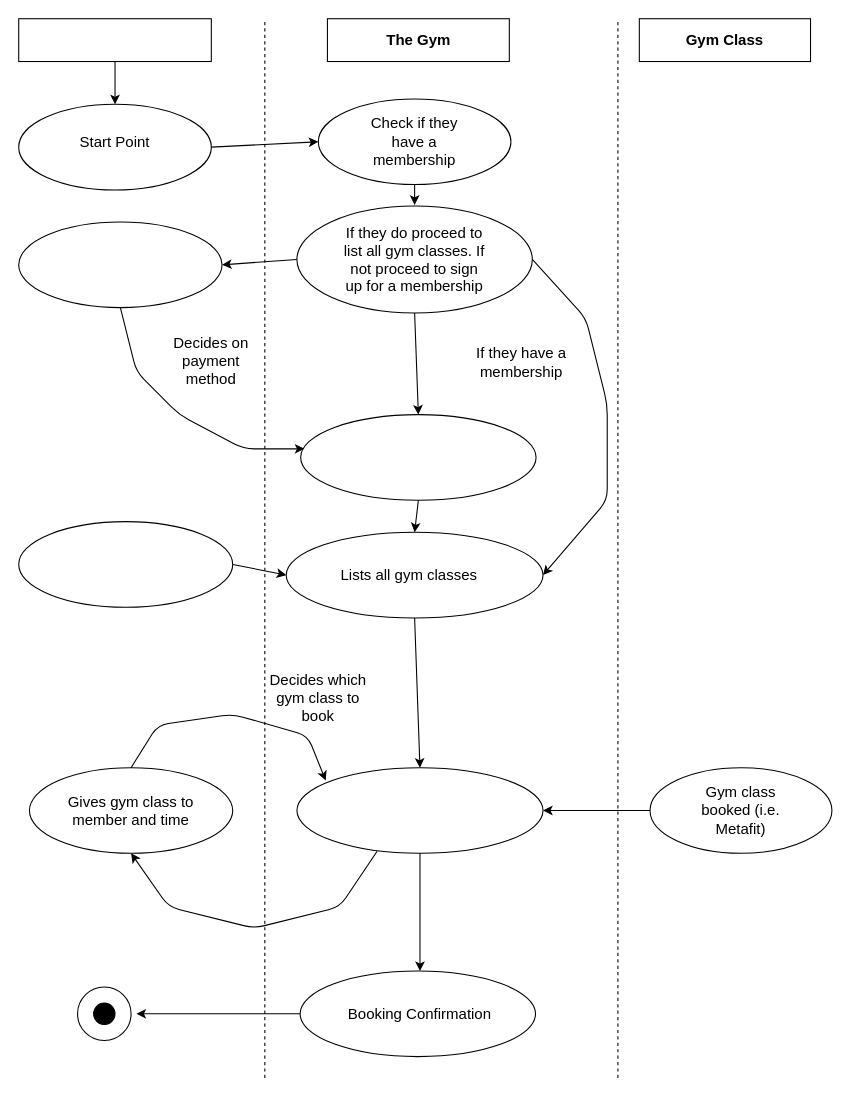
This 851x1098 diagram has some shape labels left out. The shapes that lost their labels are listed below. From the top down, each one's box as (x1, y1, x2, y2) in pixels, then its label:
(18, 18, 211, 62): Gym Member
(18, 221, 222, 308): Cash or card payment
(300, 414, 536, 500): Card payment / Authorise
(18, 521, 233, 607): Enquires about Gym classes
(296, 767, 543, 853): Books a gym class
